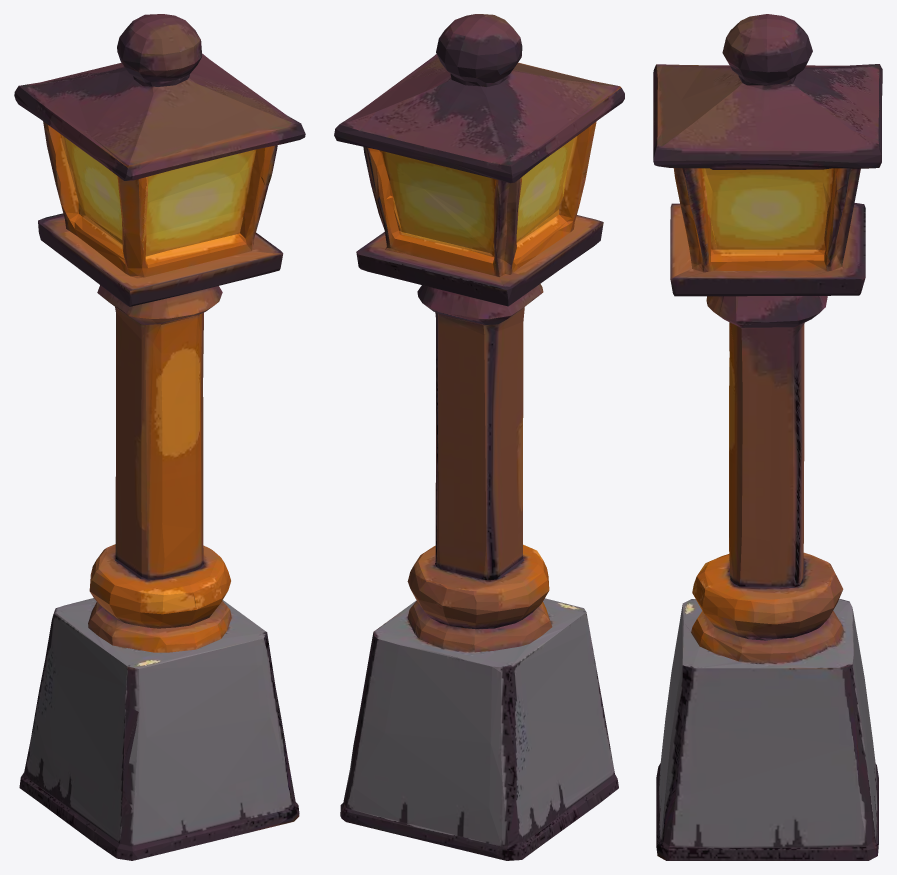
The model's file is lampione.glb.
The picture shows the model from 3 angles, left to right: view 1: azimuth 30°, elevation 25°; view 2: azimuth 150°, elevation 25°; view 3: azimuth 270°, elevation 25°; orthographic projection.
Visible parts, largest first — view 1: geometry_0; view 2: geometry_0; view 3: geometry_0.
Boxes of the visible parts, x1,y1,x2,y2 form: geometry_0: (14, 14, 305, 860); geometry_0: (334, 14, 624, 860); geometry_0: (653, 14, 882, 860).
Bounding box in the file's own units: 0.9334 × 3.8 × 0.9911.
Materials: 1 (1 with a texture image).
